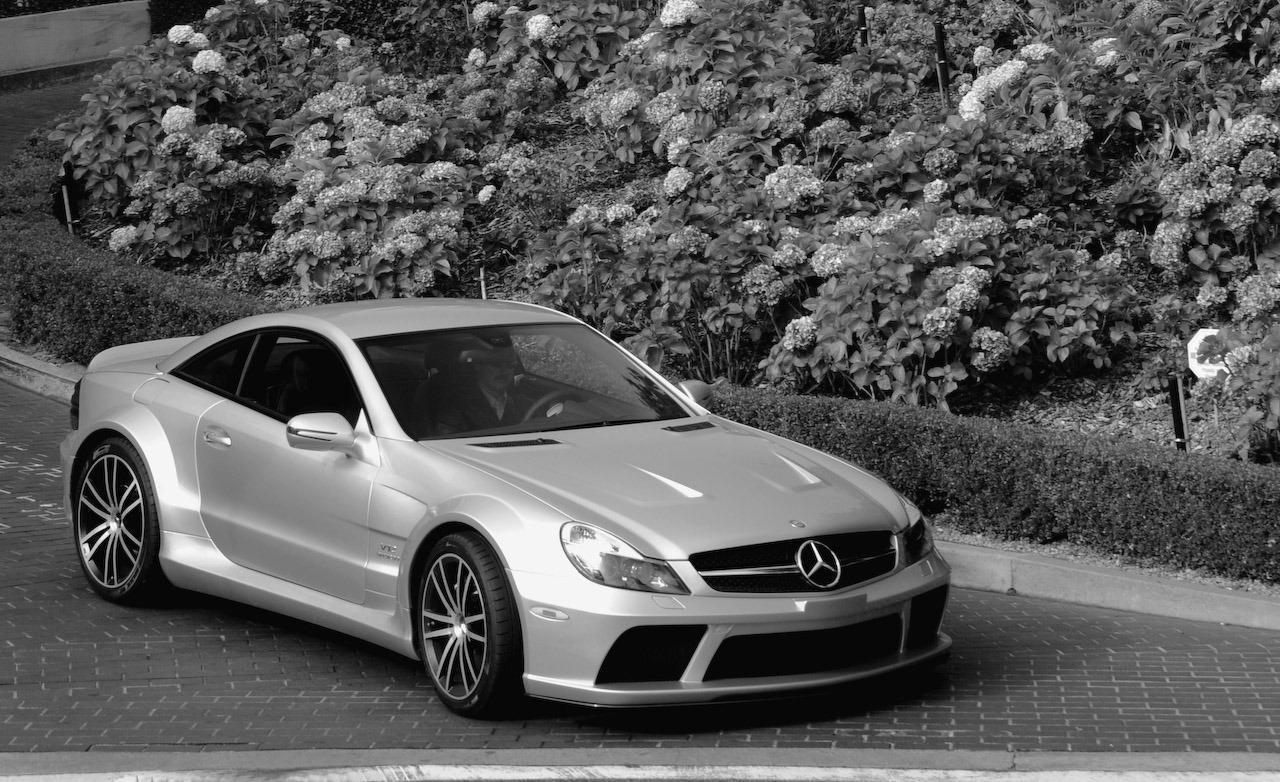car: (44, 284, 973, 730)
